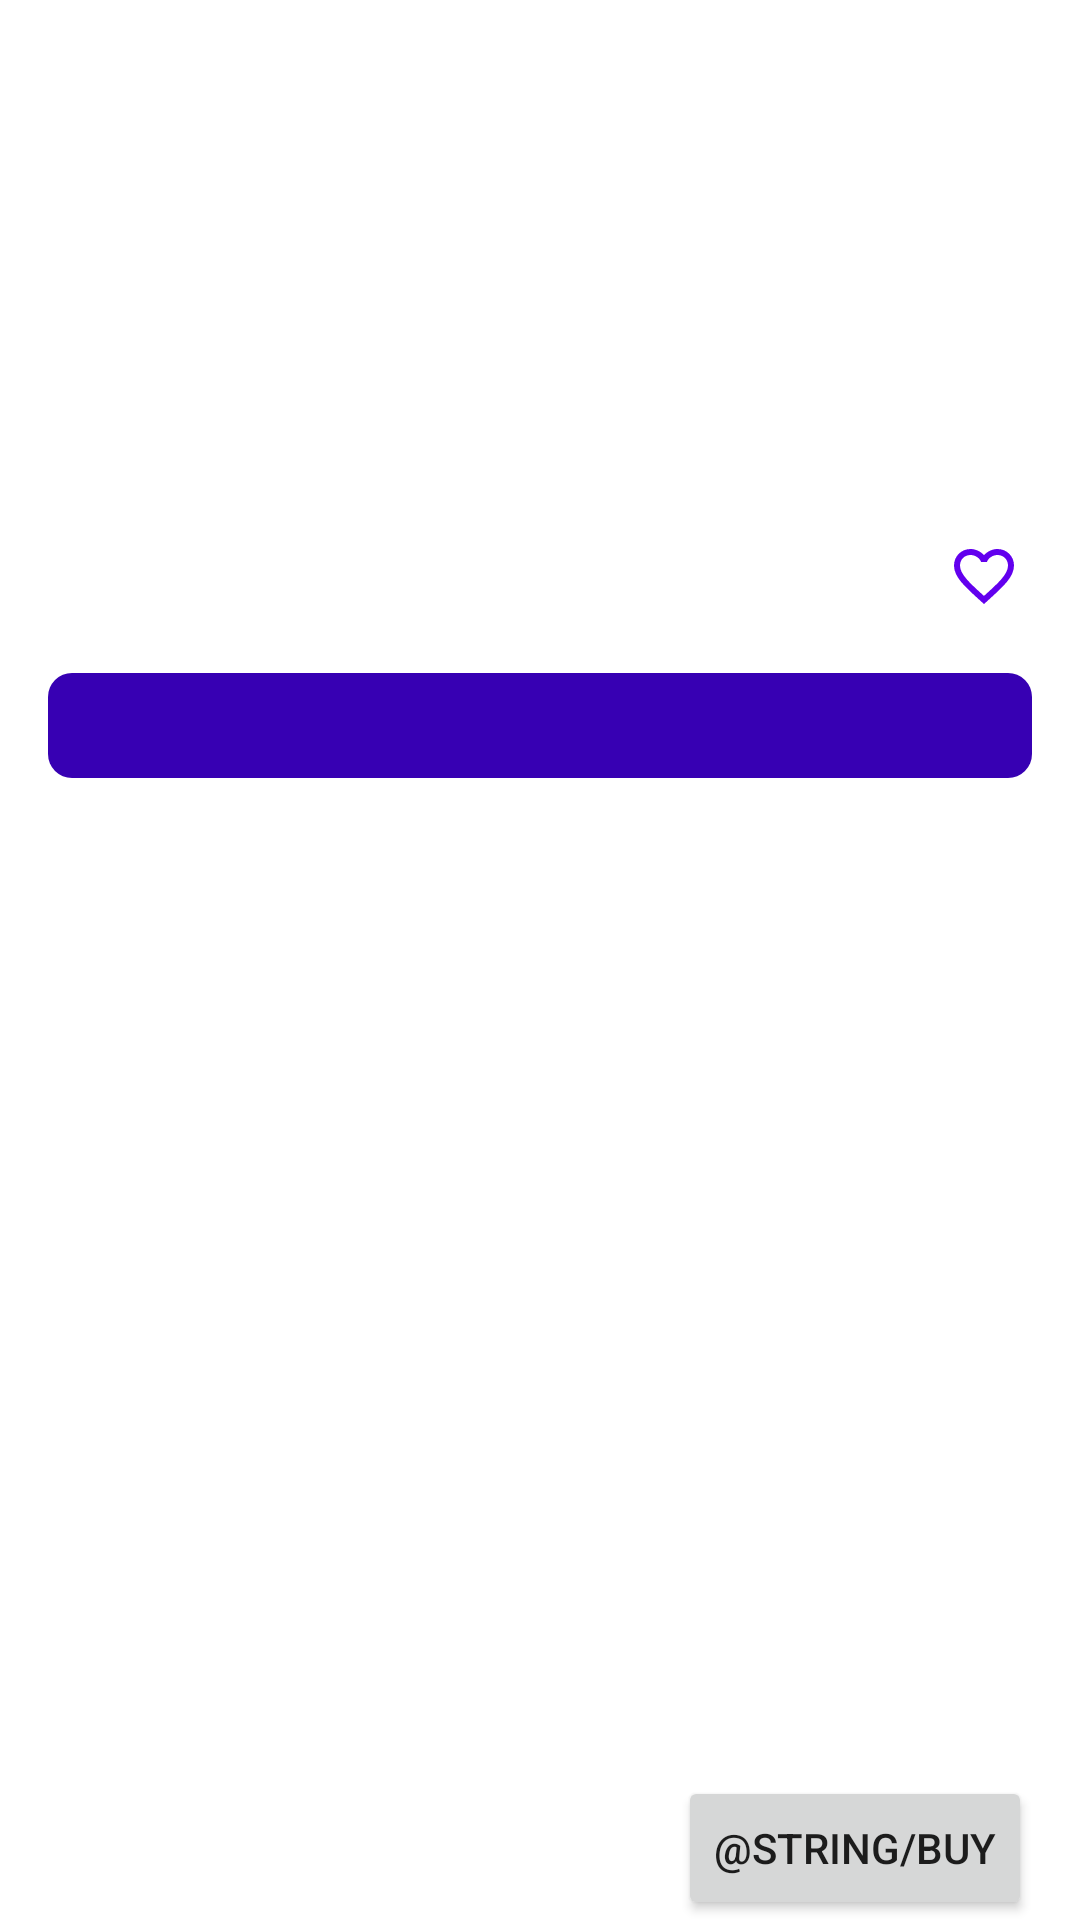

Icons on this 1080 x 1920 Android screen, each with its box as rect(x1, y1, x2, y2):
heart: rect(954, 549, 1014, 604)
